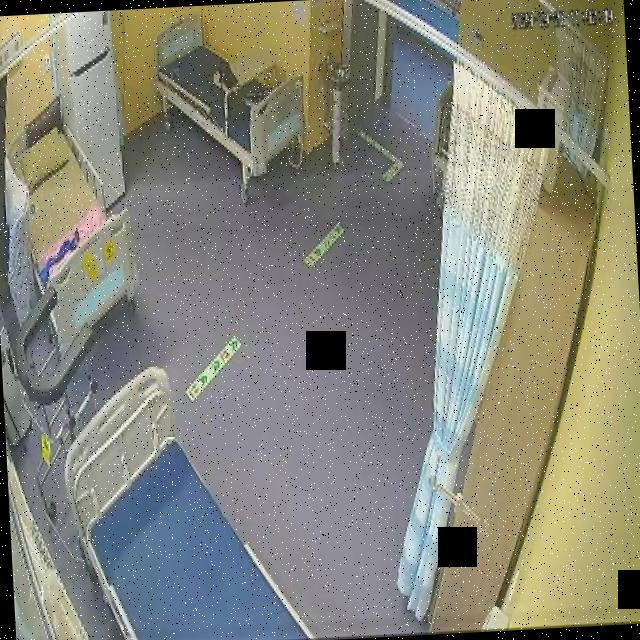bed: (59, 359, 314, 640), (2, 106, 144, 342), (150, 6, 310, 183)
walker: (11, 280, 110, 564)
